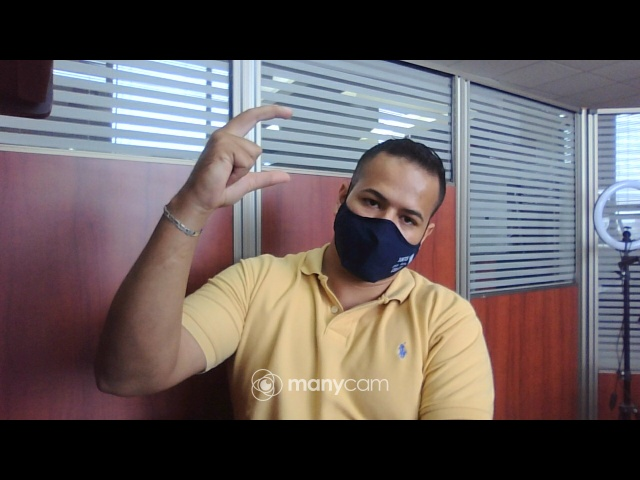No: (179, 91, 292, 220)
